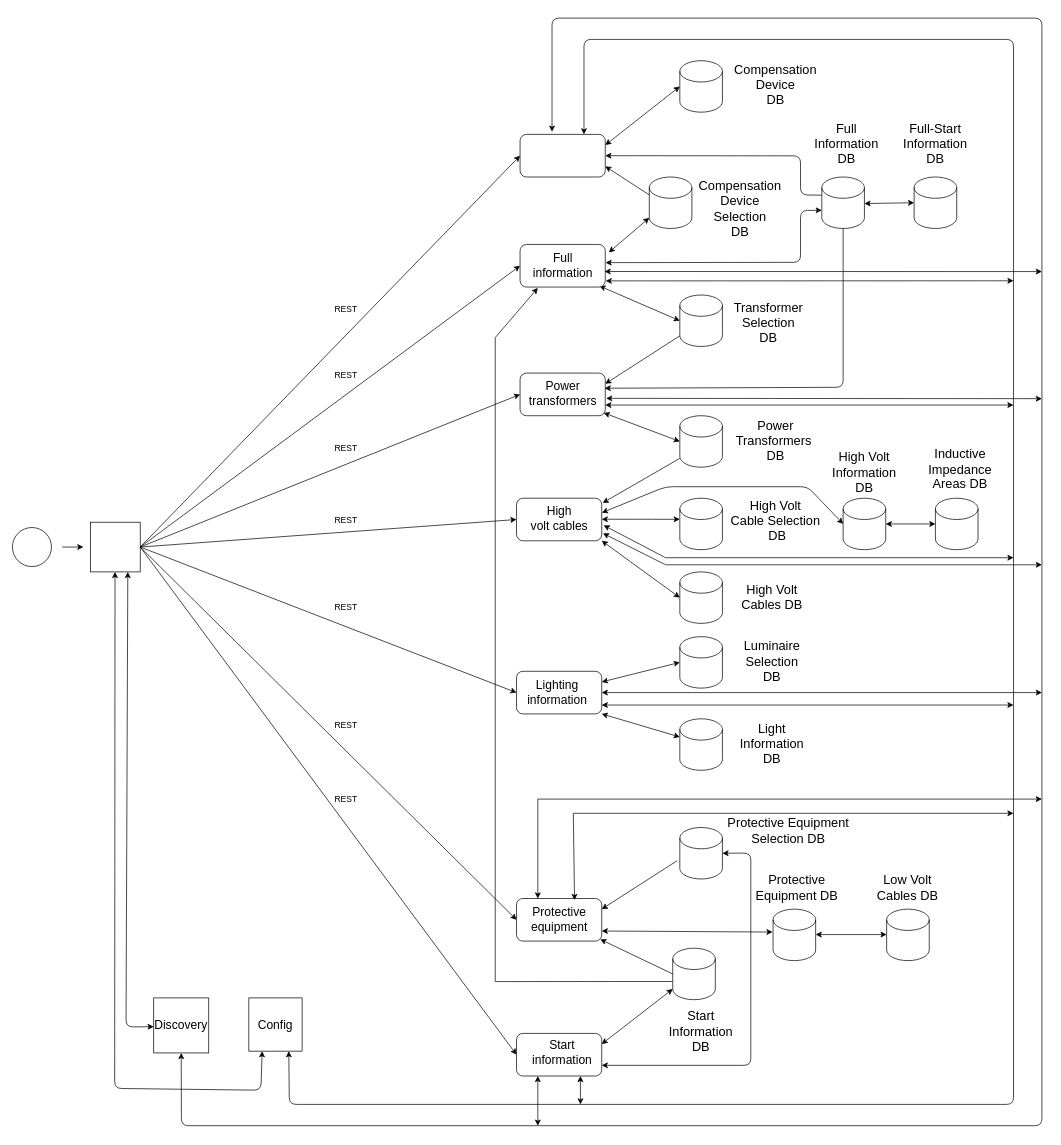
Image size: 1061x1145. Some labels were removed from this diagram. The shapes that lost their labels are listed below. From the top down, each one's centre as x and y in pixels, then its label:
[562,155]: Compensation device
[31,547]: Client
[115,546]: Gateway
